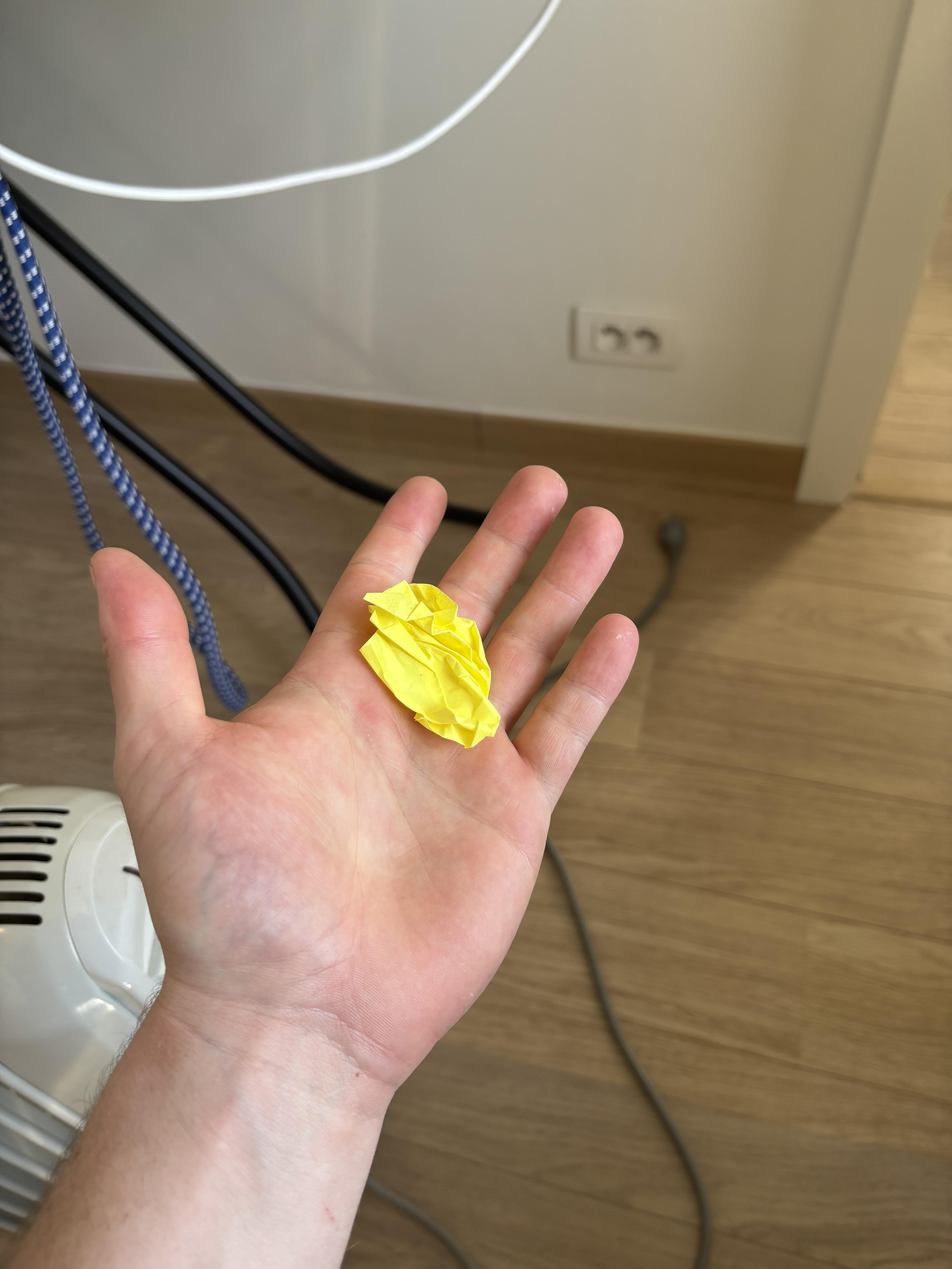Paper: (349, 569, 508, 762)
